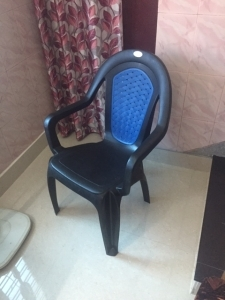chair: (44, 49, 172, 256)
